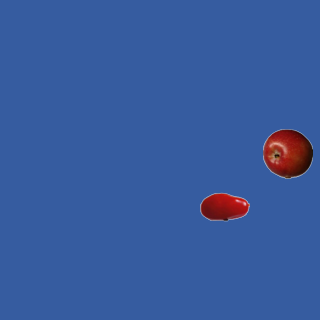Apple Braeburn: (262, 128, 312, 178)
Tomato 2: (199, 181, 249, 231)
